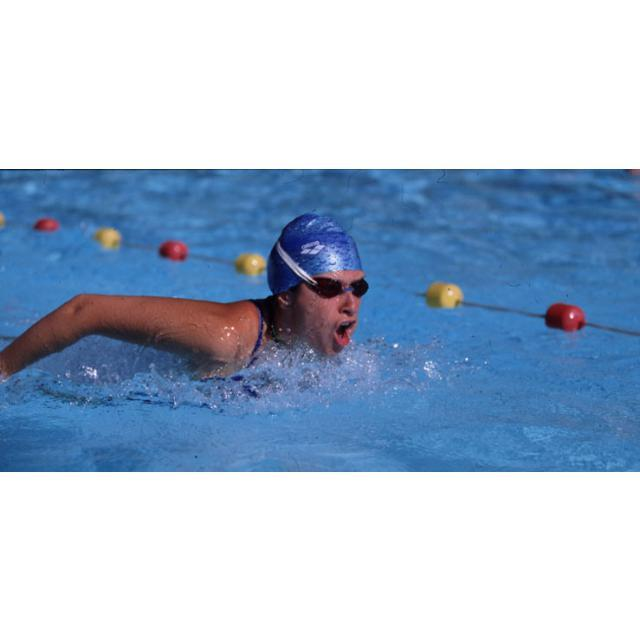human: (1, 210, 377, 385)
